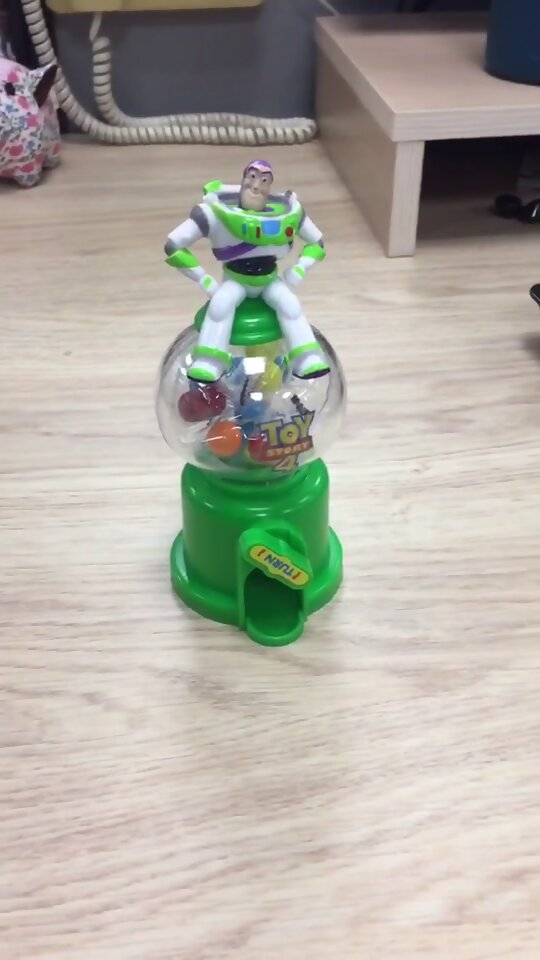buzz: (151, 153, 350, 650)
